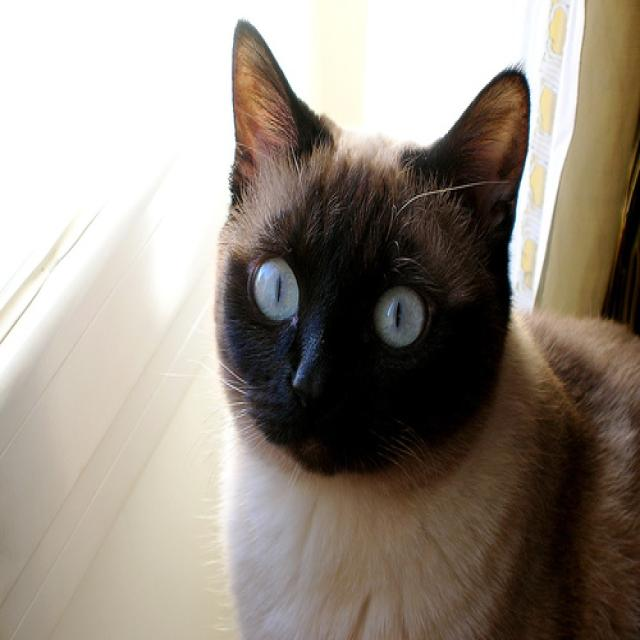cat: (210, 18, 640, 639)
